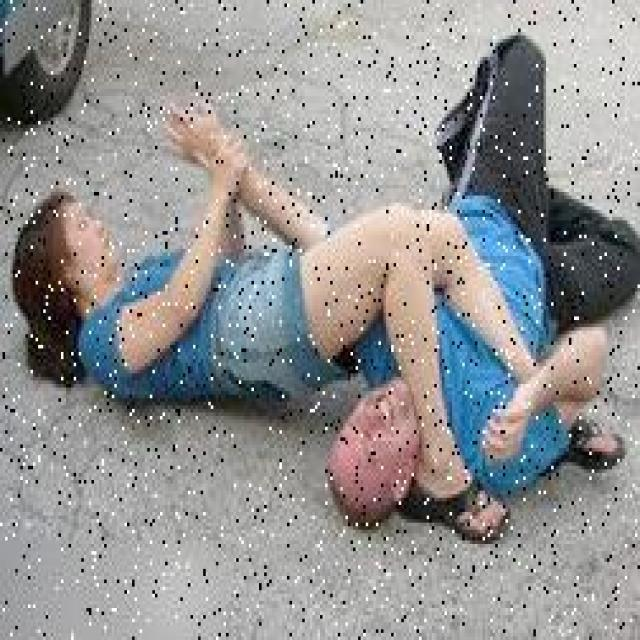fall: (38, 135, 419, 398)
